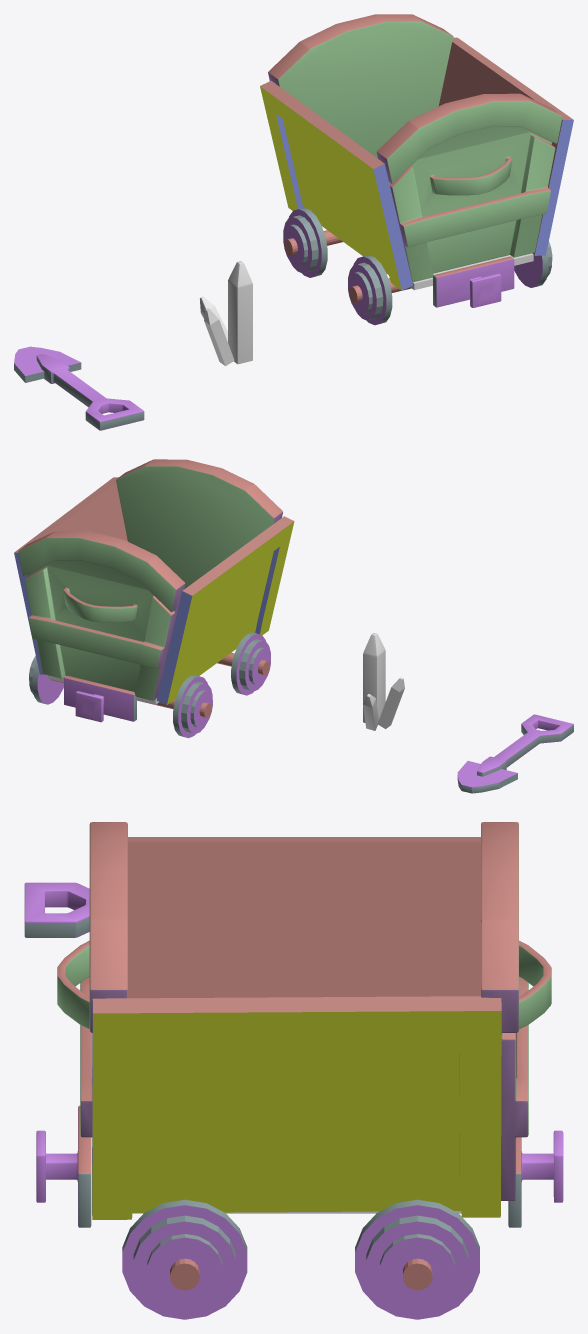
Rendered from Wagon.fbx.
3 renders of one model, top to bottom at view 1: azimuth 30°, elevation 25°; view 2: azimuth 150°, elevation 25°; view 3: azimuth 270°, elevation 25°, orthographic. The views are drawn at different scales.
Parts seen in each view (by area): view 1: Cylinder001, Cylinder005, Box003, Box011, Cylinder004, Box005, Box006, Cylinder006, Box008, Box007, Box009, Box001; view 2: Cylinder005, Cylinder001, Box003, Box011, Cylinder006, Box012, Box006, Cylinder004, Box008, Box007, Box009, Box010; view 3: Box011, Box003, Cylinder005, Cylinder004, Cylinder006, Cylinder001, Box006, Box005, Box012.
Part boxes in pixels (x1,y1,x2,y2): Cylinder001: (376,93,562,282); Cylinder005: (268,14,453,158); Box003: (260,80,412,290); Box011: (439,37,573,255); Cylinder004: (348,241,552,325); Box005: (433,256,514,307); Box006: (36,354,144,430); Cylinder006: (283,207,342,277); Box008: (228,261,252,364); Box007: (14,346,81,382); Box009: (204,308,234,366); Box001: (410,253,533,290); Cylinder005: (18,531,185,700); Cylinder001: (116,459,282,588); Box003: (156,516,294,705); Box011: (14,477,127,674); Cylinder006: (29,655,212,738); Box012: (64,675,136,722); Box006: (477,714,573,776); Cylinder004: (217,632,270,695); Box008: (363,633,385,722); Box007: (457,761,517,793); Box009: (378,677,404,728); Box010: (363,694,378,730); Box011: (92,996,501,1219); Box003: (128,837,480,998); Cylinder005: (481,822,551,1200); Cylinder004: (122,1199,247,1319); Cylinder006: (355,1199,479,1319); Cylinder001: (57,822,127,1137); Box006: (24,882,89,937); Box005: (36,1105,91,1227); Box012: (508,1130,563,1227).
Size of the model in its own units: 43.45 by 18.44 by 22.57.
